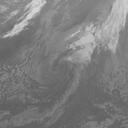cyclone: (26, 31, 89, 88)
